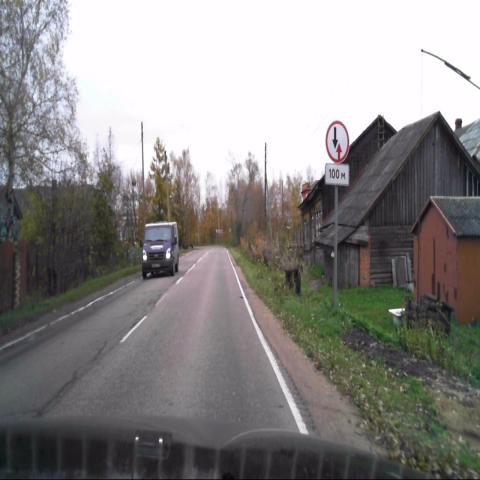2_6: (326, 120, 350, 163)
8_1_1: (326, 164, 349, 184)
